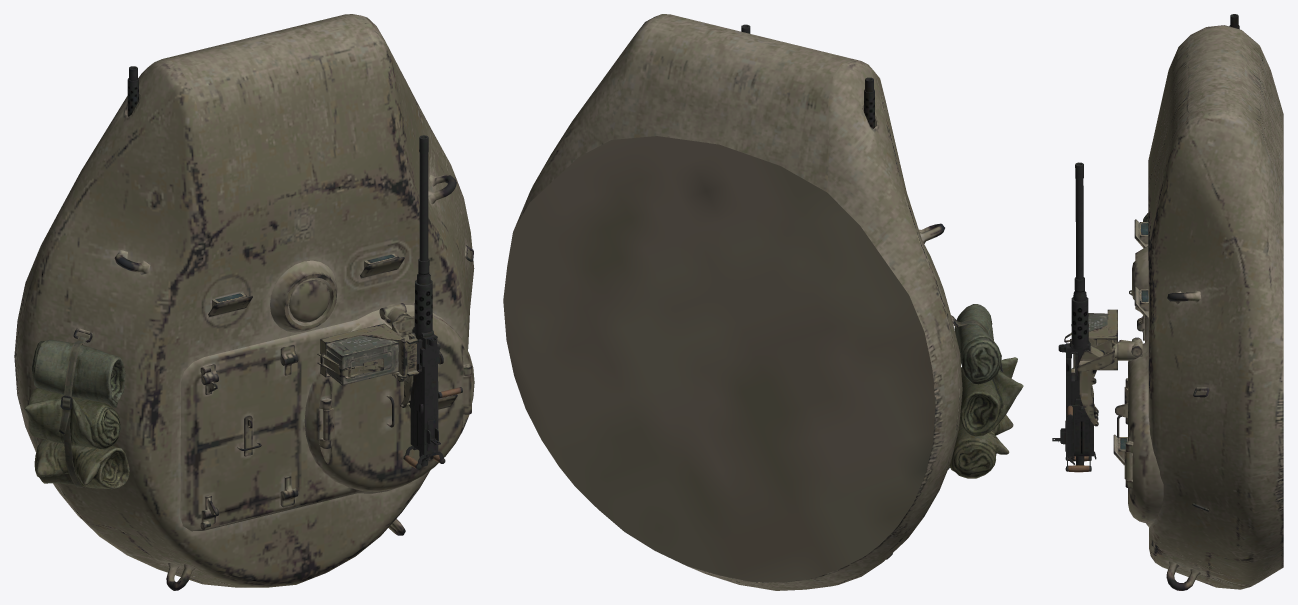
File: Turret_01.glb
The picture shows the model from 3 angles, left to right: view 1: azimuth 30°, elevation 25°; view 2: azimuth 150°, elevation 25°; view 3: azimuth 270°, elevation 25°; orthographic projection. The views are drawn at different scales.
Parts seen in each view (by area): view 1: set_0_group_0; view 2: set_0_group_0; view 3: set_0_group_0.
Boxes of the visible parts, x1,y1,x2,y2 form: set_0_group_0: [14, 14, 474, 590]; set_0_group_0: [503, 14, 1023, 590]; set_0_group_0: [1052, 14, 1283, 590].
Bounding box in the file's own units: 2.53 × 2.74 × 1.14.
1 material, 1 textured.
